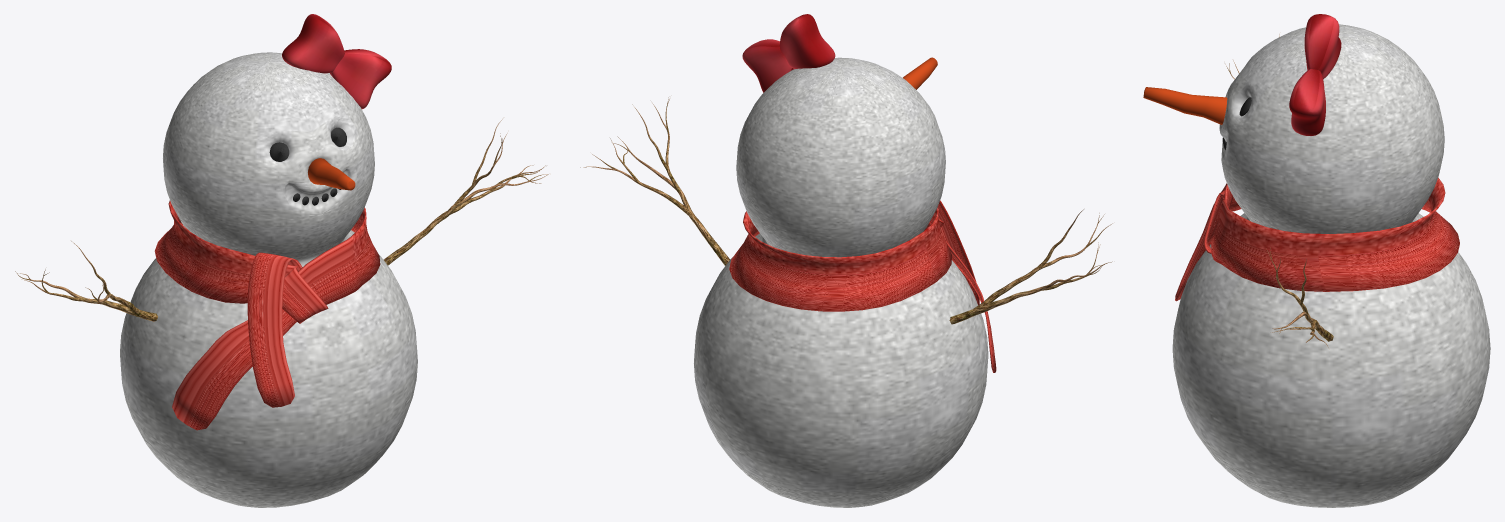
The model's file is snezana.obj.
The picture shows the model from 3 angles, left to right: view 1: azimuth 30°, elevation 25°; view 2: azimuth 150°, elevation 25°; view 3: azimuth 270°, elevation 25°; orthographic projection. The views are drawn at different scales.
Visible parts, largest first — view 1: body_Sphere.003, scarf_Sphere.001, bow_Cube, left_arm_tree, Right_arm_tree.001, Nose_Circle.001; view 2: body_Sphere.003, scarf_Sphere.001, bow_Cube, Right_arm_tree.001, left_arm_tree; view 3: body_Sphere.003, scarf_Sphere.001, bow_Cube, Nose_Circle.001, left_arm_tree.
Part boxes in pixels (x1,y1,x2,y2): body_Sphere.003: [120, 52, 417, 507]; scarf_Sphere.001: [154, 200, 380, 430]; bow_Cube: [282, 14, 391, 109]; left_arm_tree: [383, 119, 548, 265]; Right_arm_tree.001: [15, 241, 157, 321]; Nose_Circle.001: [308, 158, 355, 190]; body_Sphere.003: [694, 57, 988, 507]; scarf_Sphere.001: [729, 200, 996, 372]; bow_Cube: [742, 14, 835, 92]; Right_arm_tree.001: [949, 209, 1112, 324]; left_arm_tree: [580, 97, 729, 265]; body_Sphere.003: [1172, 24, 1490, 507]; scarf_Sphere.001: [1175, 177, 1459, 301]; bow_Cube: [1289, 14, 1341, 135]; Nose_Circle.001: [1143, 87, 1227, 124]; left_arm_tree: [1266, 247, 1333, 347].
Bounding box in the file's own units: 3.93 × 3.24 × 2.1.
Materials: 7 (7 with a texture image).
